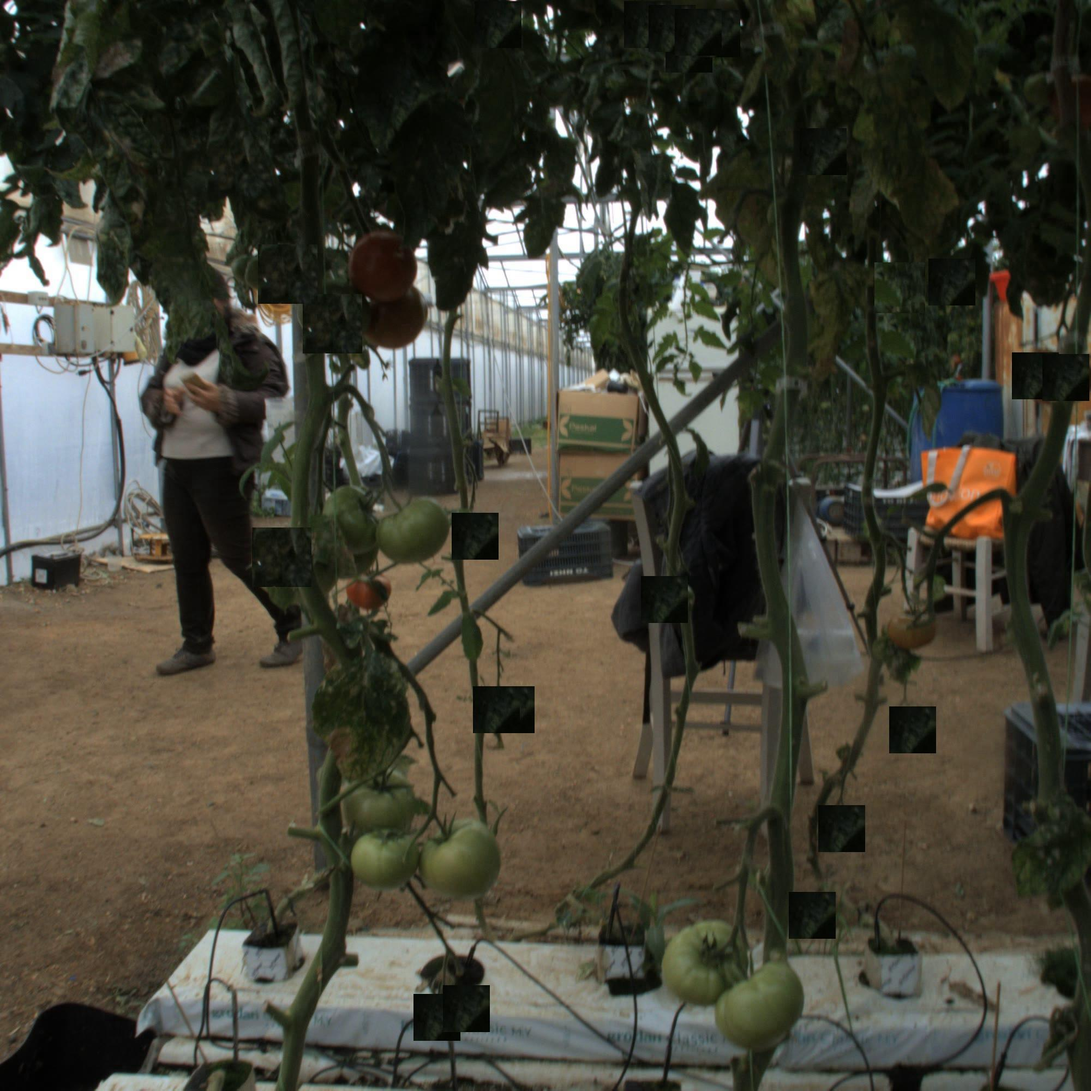['unripe', 'semi-ripe', 'fully-ripe']: (716, 968, 799, 1051), (665, 922, 748, 1005), (426, 821, 498, 893), (321, 484, 382, 545), (352, 770, 413, 831), (352, 825, 413, 886), (381, 499, 442, 560)
